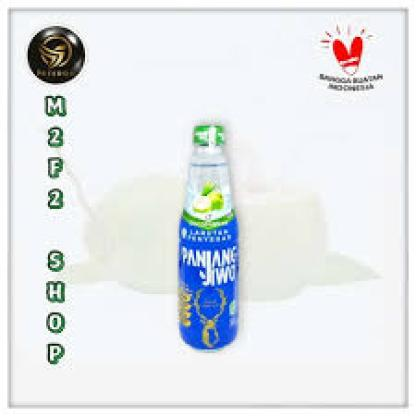Glass Bottle: (176, 121, 244, 354)
